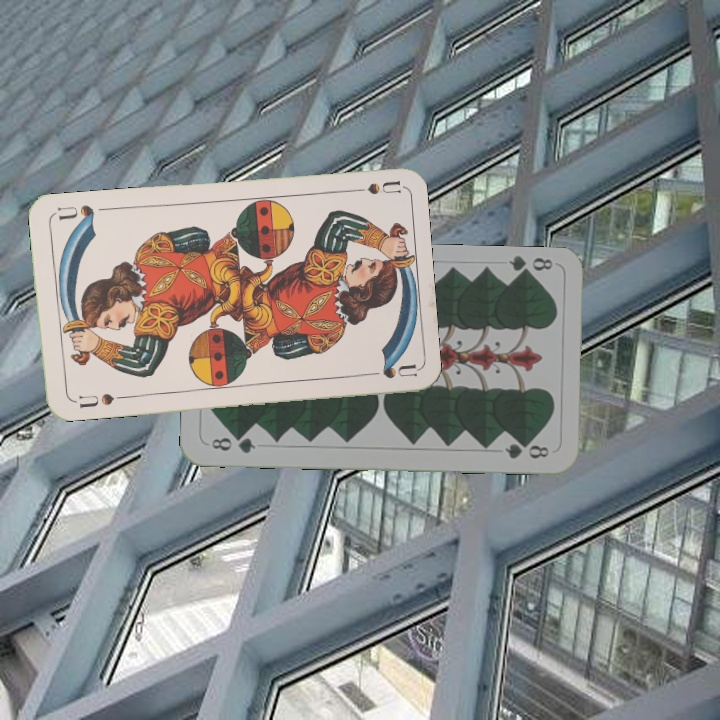G8: (505, 253, 555, 280), (207, 432, 258, 456)
SU: (342, 176, 401, 197), (75, 389, 116, 411)
